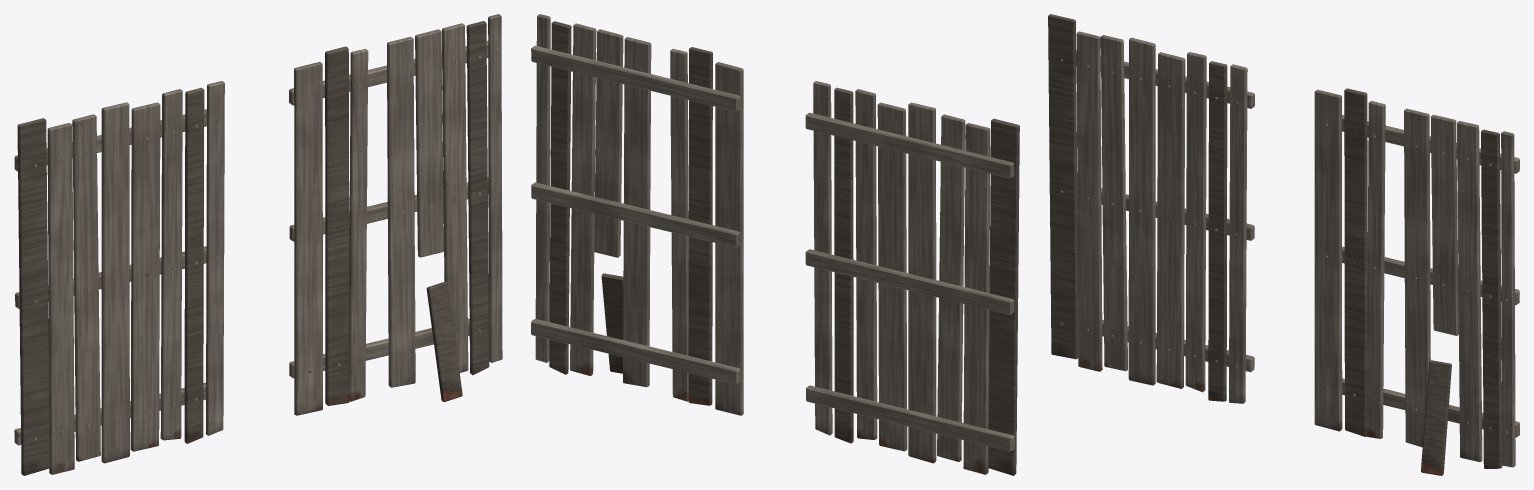
Rendered from WoodPlankWalls.fbx.
The picture shows the model from 3 angles, left to right: view 1: azimuth 30°, elevation 25°; view 2: azimuth 150°, elevation 25°; view 3: azimuth 330°, elevation 25°; orthographic projection. The views are drawn at different scales.
Visible parts, largest first — view 1: WoodPlankWallPanel, WoodPlankWallPanel_Broken; view 2: WoodPlankWallPanel, WoodPlankWallPanel_Broken; view 3: WoodPlankWallPanel, WoodPlankWallPanel_Broken.
Part boxes in pixels (x1,y1,x2,y2): WoodPlankWallPanel: [14, 81, 224, 475]; WoodPlankWallPanel_Broken: [289, 14, 502, 415]; WoodPlankWallPanel: [805, 81, 1019, 475]; WoodPlankWallPanel_Broken: [531, 14, 743, 415]; WoodPlankWallPanel: [1048, 14, 1254, 403]; WoodPlankWallPanel_Broken: [1314, 88, 1519, 475].
Bounding box in the file's own units: 394 × 282 × 37.5.
Materials: 1 (1 with a texture image).
